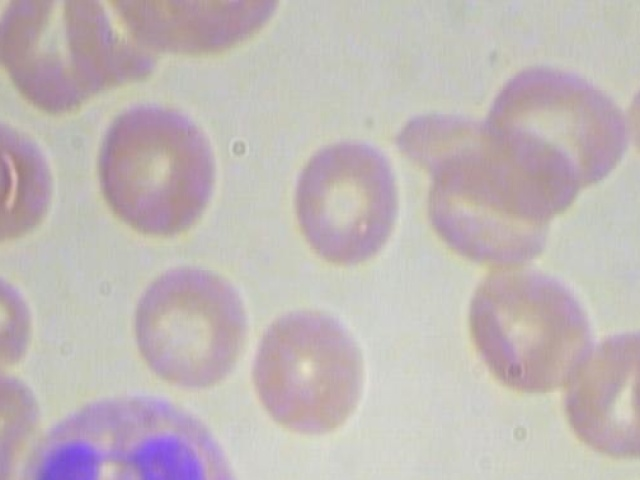RBC: (471, 51, 635, 212), (378, 100, 585, 226), (430, 258, 613, 400), (81, 96, 224, 250), (242, 294, 381, 444), (125, 252, 249, 399), (280, 129, 404, 276), (557, 311, 640, 462), (150, 0, 293, 67), (619, 45, 640, 199), (585, 469, 640, 480)
WBC: (7, 387, 251, 480)
